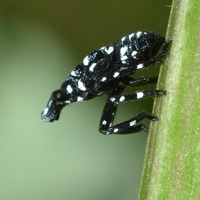insect: (41, 31, 167, 133)
